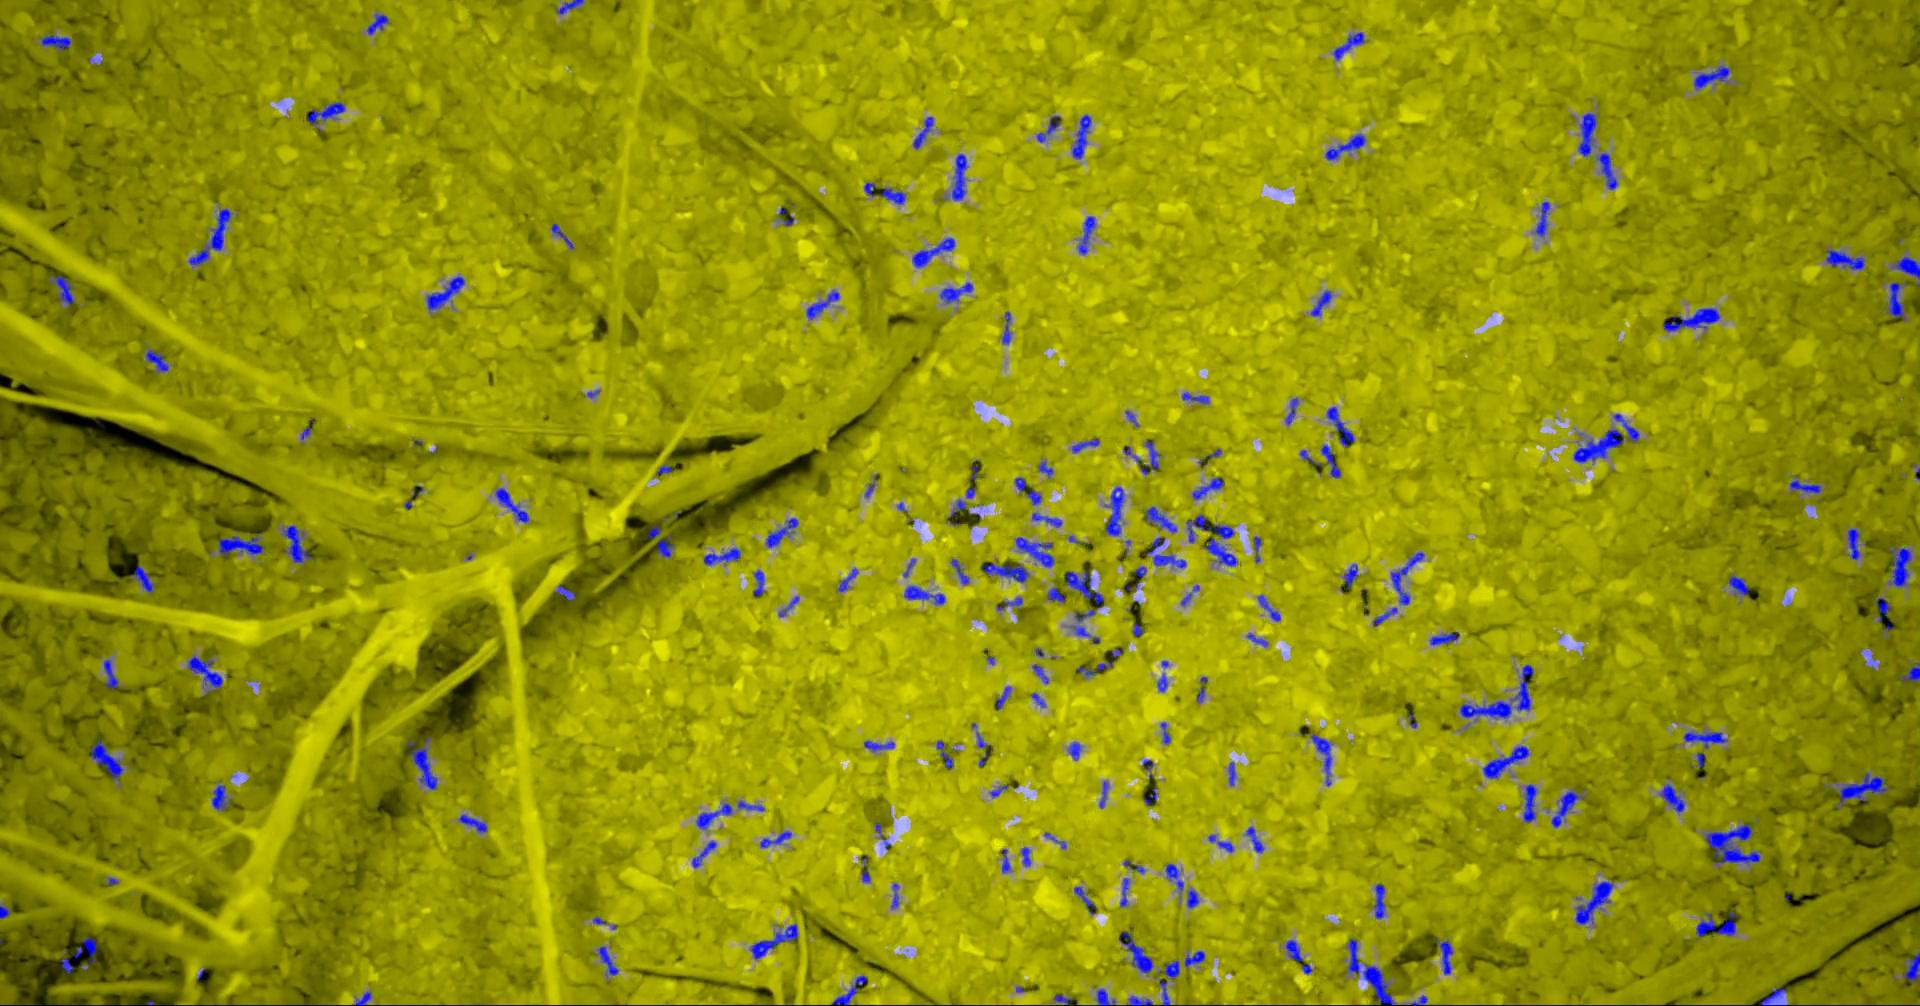ant: (1462, 664, 1535, 719), (1349, 937, 1396, 1005), (190, 208, 232, 265), (1837, 772, 1890, 808), (1392, 551, 1425, 605), (1575, 428, 1625, 462), (1576, 880, 1615, 923), (752, 923, 799, 959), (409, 735, 439, 789), (1484, 746, 1531, 779), (1067, 570, 1105, 607), (1663, 307, 1721, 332), (189, 655, 223, 695), (91, 739, 124, 780), (1121, 931, 1154, 972), (1189, 514, 1236, 542), (913, 238, 956, 267), (428, 276, 466, 309), (1310, 732, 1333, 786), (1078, 648, 1123, 676), (1553, 789, 1585, 827), (1017, 536, 1057, 567), (1147, 537, 1187, 567), (497, 486, 530, 522), (1327, 133, 1368, 160), (1697, 911, 1737, 937), (1328, 406, 1355, 446), (1105, 486, 1126, 535), (833, 976, 869, 1005), (284, 525, 312, 561), (767, 517, 800, 547), (808, 290, 841, 319), (218, 535, 265, 555), (983, 561, 1030, 582), (1890, 545, 1912, 586), (1335, 30, 1366, 60), (1208, 537, 1239, 567), (648, 525, 676, 558), (697, 803, 733, 828), (1145, 506, 1178, 532), (1288, 939, 1313, 973), (1892, 257, 1920, 287), (1578, 112, 1597, 156), (309, 102, 345, 124), (1073, 114, 1092, 158), (1695, 66, 1731, 89), (50, 276, 76, 306), (1597, 152, 1619, 189), (1685, 730, 1730, 748), (1827, 249, 1865, 269), (905, 586, 946, 605), (75, 936, 98, 969), (1614, 413, 1641, 441), (1888, 281, 1907, 319), (952, 152, 968, 199), (1016, 478, 1043, 504), (1662, 782, 1686, 812), (1435, 937, 1454, 974), (1194, 478, 1225, 499), (1079, 216, 1097, 254), (1072, 608, 1096, 636), (693, 840, 717, 868), (914, 116, 935, 149), (941, 282, 974, 302), (1322, 445, 1342, 478), (705, 547, 742, 565), (1142, 439, 1161, 474), (1037, 116, 1062, 142), (1258, 594, 1283, 621), (599, 945, 620, 976), (133, 565, 156, 592), (1076, 887, 1097, 915), (1790, 475, 1823, 493), (1524, 784, 1539, 822), (1312, 290, 1333, 316), (1167, 862, 1185, 894), (978, 730, 993, 767), (552, 224, 575, 248), (458, 814, 489, 832), (762, 829, 792, 847), (952, 558, 971, 584), (1537, 201, 1550, 236), (1763, 987, 1790, 1005), (147, 349, 170, 371), (213, 784, 232, 809), (1903, 951, 1920, 981), (1247, 826, 1265, 852), (368, 13, 390, 34), (780, 594, 801, 616), (42, 34, 72, 50), (1032, 512, 1063, 527), (1877, 594, 1893, 622), (839, 567, 858, 591), (1374, 607, 1399, 625), (1210, 835, 1236, 852), (883, 187, 907, 205), (938, 741, 954, 768), (105, 659, 119, 688), (1158, 960, 1181, 978), (1849, 527, 1862, 559), (557, 0, 585, 14), (1073, 438, 1101, 452), (1730, 575, 1750, 594), (1431, 631, 1462, 644), (1900, 662, 1920, 681), (997, 686, 1013, 709), (1286, 398, 1300, 424), (1345, 563, 1359, 589), (1032, 663, 1050, 683), (1375, 883, 1385, 918), (998, 596, 1023, 610), (949, 499, 968, 517), (1186, 950, 1206, 967), (865, 741, 897, 751), (1098, 988, 1117, 1005), (754, 569, 766, 596), (1197, 676, 1209, 702), (1121, 876, 1131, 906), (1248, 633, 1269, 647), (1125, 859, 1145, 873), (1183, 392, 1210, 403), (739, 800, 766, 810), (557, 586, 577, 600), (1100, 781, 1110, 807), (1161, 979, 1171, 1005), (1039, 461, 1054, 478), (1049, 587, 1065, 602), (1145, 788, 1159, 805), (1161, 721, 1172, 743), (62, 951, 74, 973), (1130, 995, 1154, 1005), (1004, 311, 1012, 343), (357, 991, 373, 1005), (1070, 741, 1082, 760), (1144, 760, 1156, 779), (1003, 848, 1012, 873), (1189, 889, 1200, 907), (1055, 993, 1073, 1005), (1255, 536, 1262, 561), (1022, 847, 1032, 866), (893, 883, 900, 908), (1410, 995, 1429, 1005), (1159, 673, 1170, 691), (865, 182, 877, 196), (1697, 752, 1707, 768), (1230, 761, 1237, 785), (1134, 622, 1144, 636), (1, 904, 11, 918)
